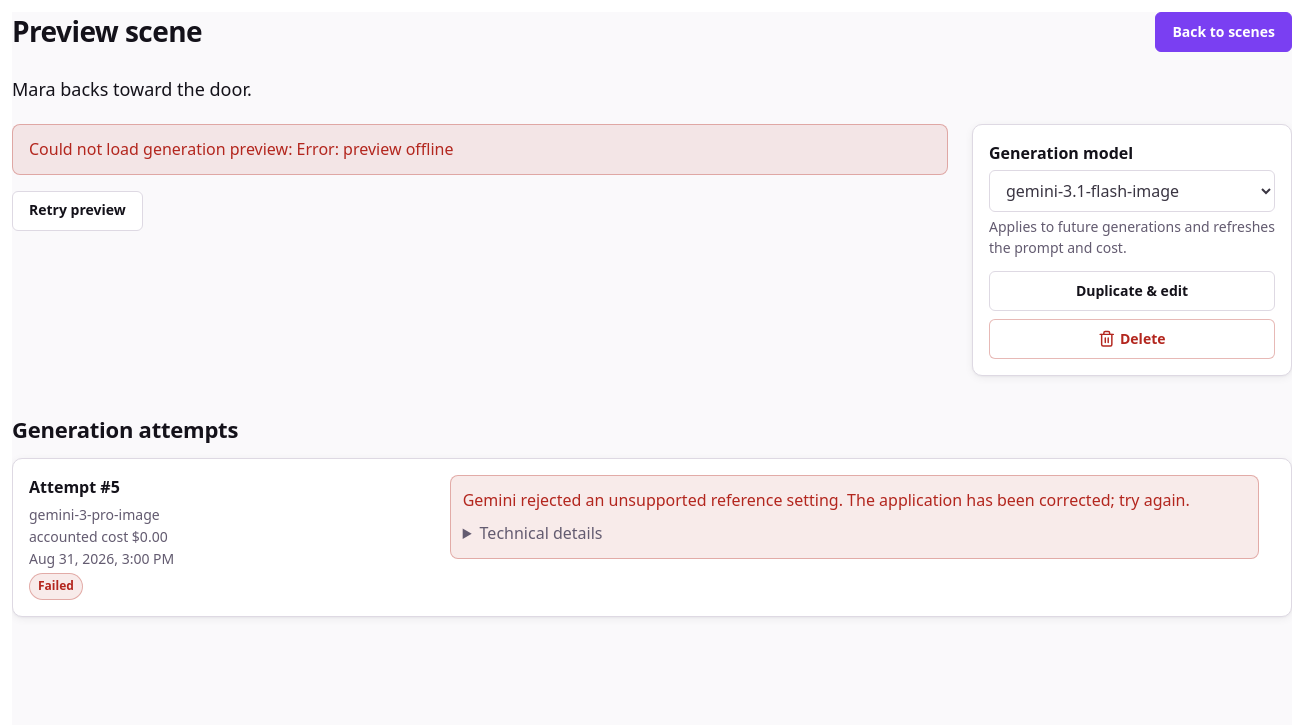
Test: ScenePreviewPage — locked scene duplicate & edit › shows scene and history when the initial preview request fails, then retries it
Check: the text "Mara backs toward the door." is shown, box [12,77,252,101]
Check: the text "Attempt #5" is shown, box [29,476,120,500]
Click the button "Retry preview". click: point(77, 211)
box: [12,191,143,231]
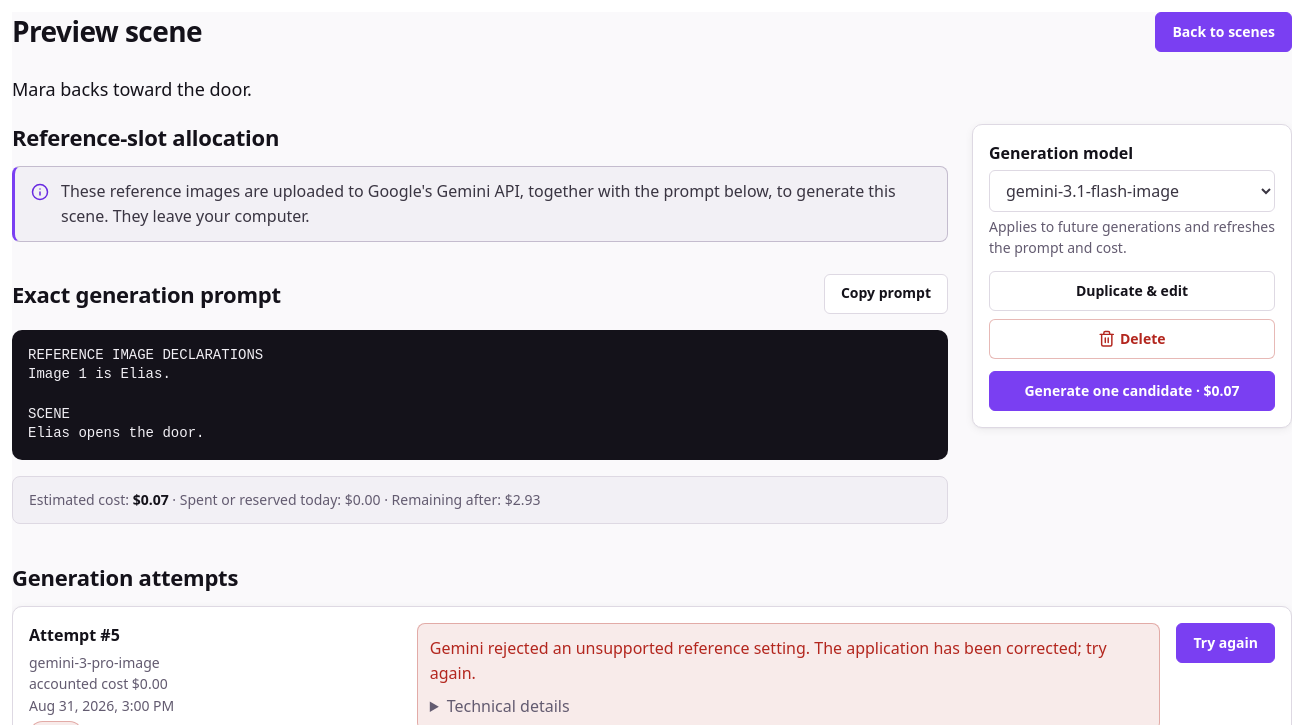
Check: the heading "Exact generation prompt" is shown, box [12,281,281,307]
